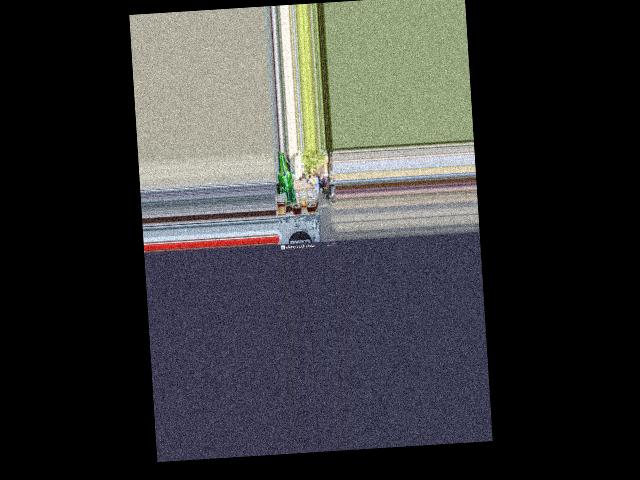beer: (276, 152, 297, 209)
